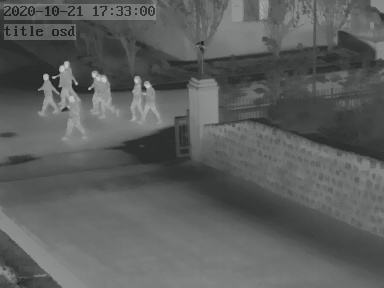person: (64, 95, 86, 139), (141, 80, 160, 122), (59, 60, 78, 101), (129, 74, 145, 120), (39, 73, 56, 114), (100, 71, 115, 113), (88, 70, 101, 115)
